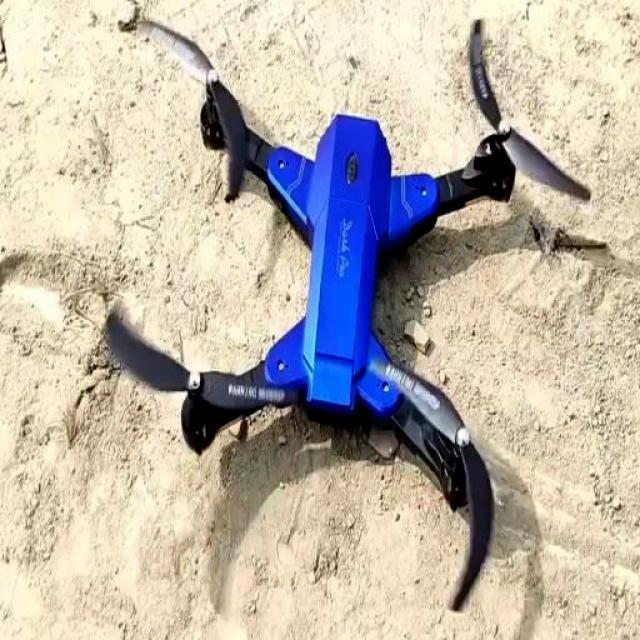bird: (121, 0, 566, 611)
